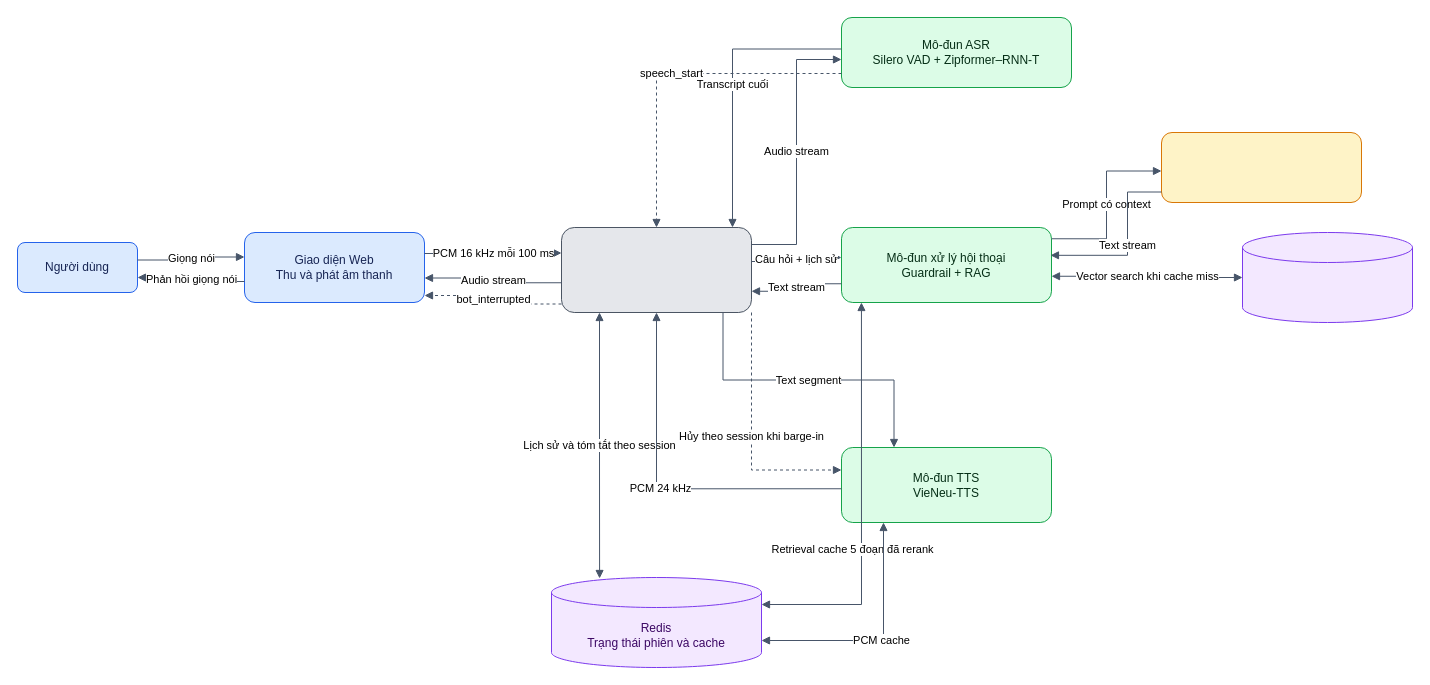
This 1430x685 diagram has some shape labels left out. Here are the shapes that lost their labels. From the top down, the centre of each, then its label:
At (x=1261, y=167): "Qwen".
At (x=656, y=269): "Gateway Điều phối phiên và luồng dữ liệu".
At (x=1327, y=277): "Qdrant Kho vector tri thức".
